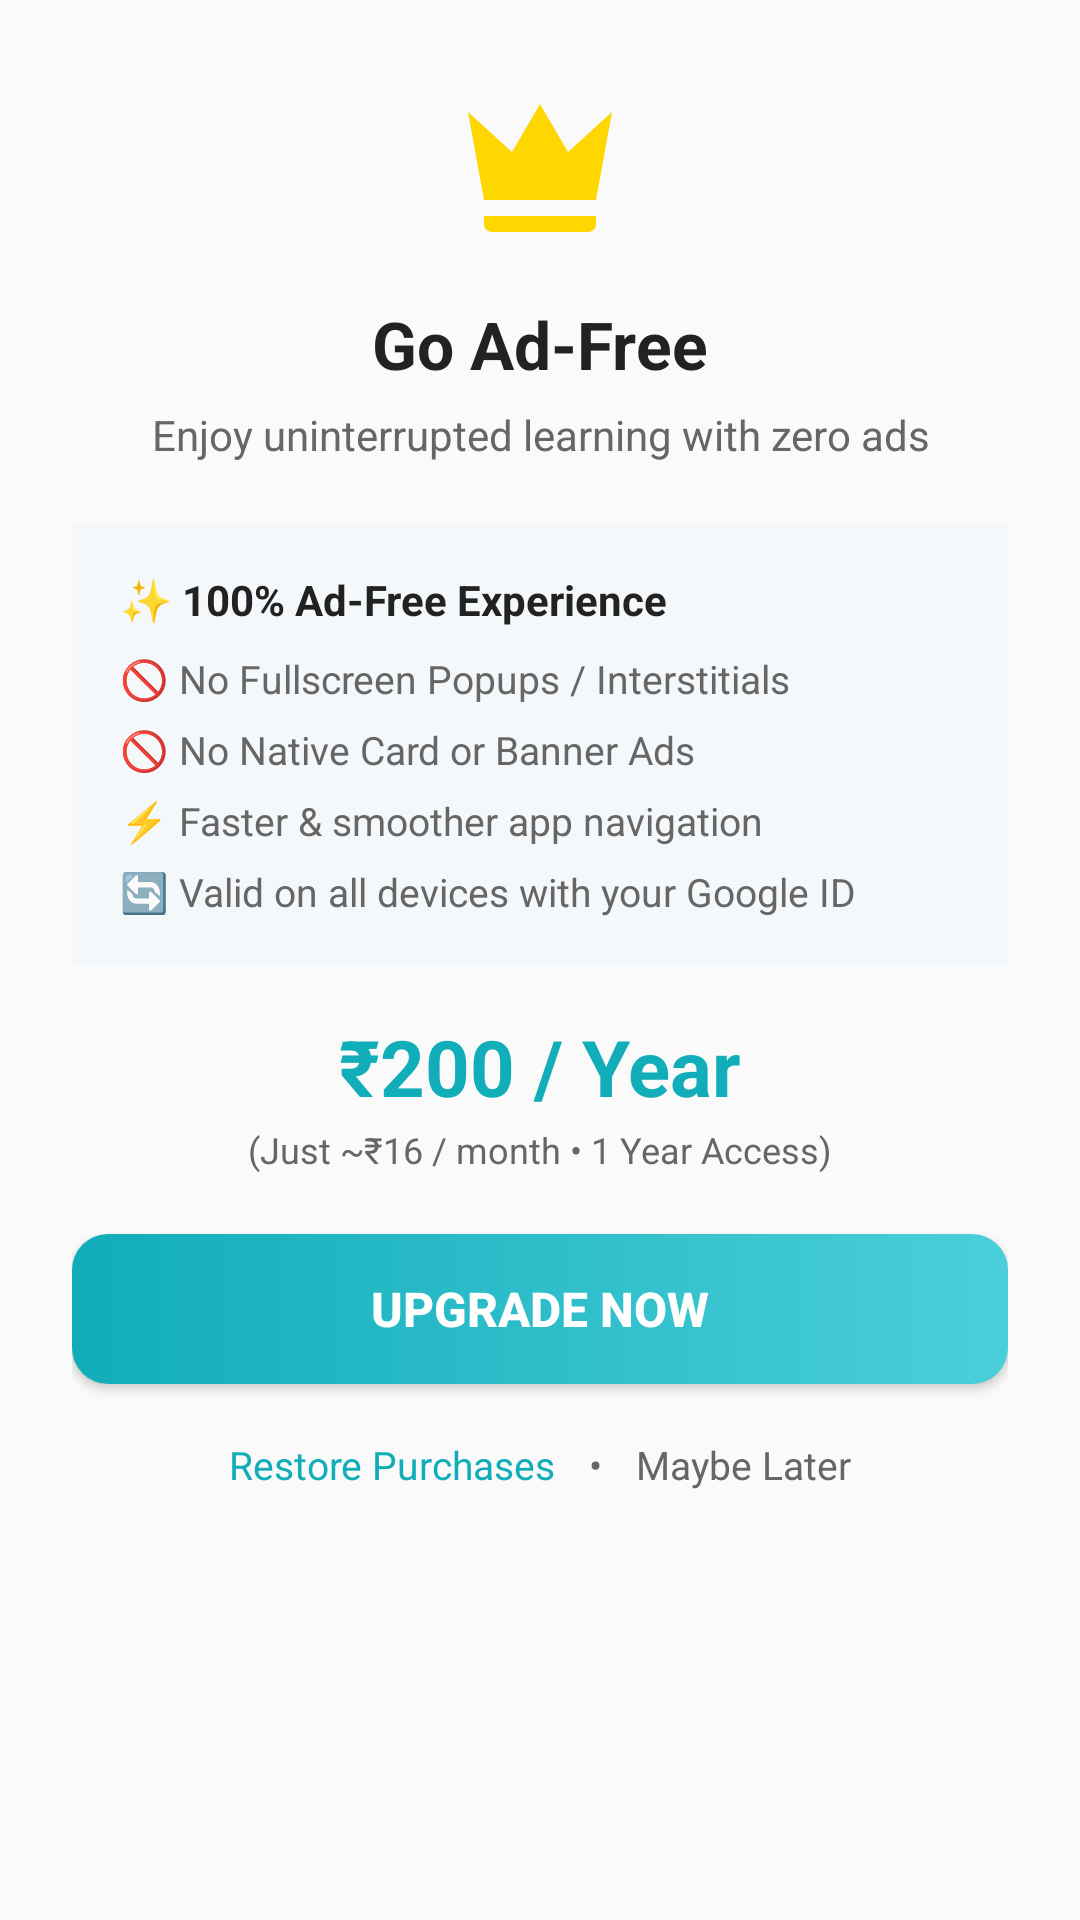

Icon bounding boxes for this 1080 x 1920 phone screenshot, format (x1,y1,x2,y2):
Premium: (468,104,612,232)
